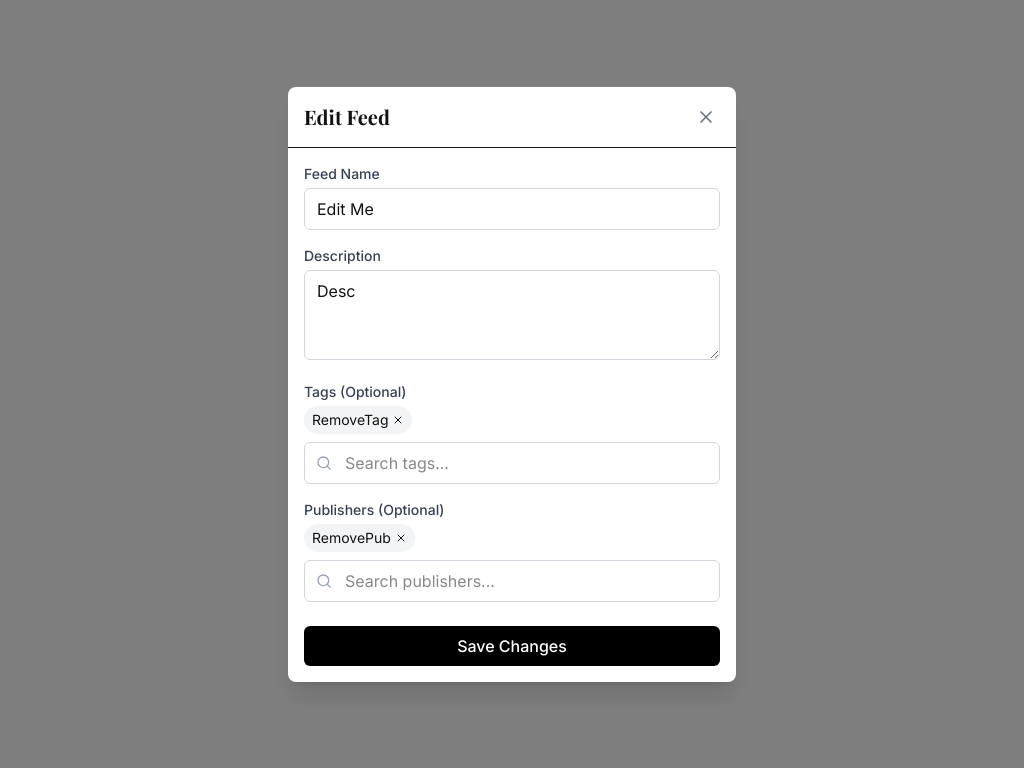
Test: CreateFeedModal › removes tags and publishers
Expected: the text "RemoveTag" is shown, [304,406,412,434]
Expected: the text "RemovePub" is shown, [304,524,415,552]
Click the button without text next to "RemoveTag". click: (398, 420)
box: [392,414,404,426]
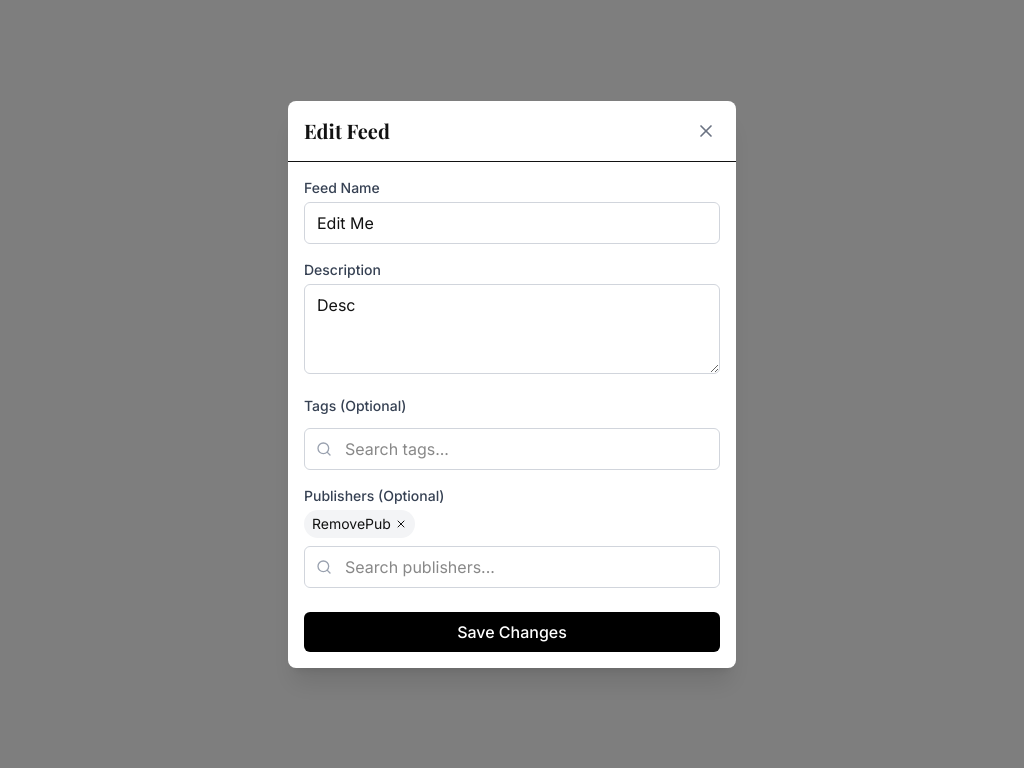
Now the text "RemoveTag" is gone
Click the button without text next to "RemovePub". click: (401, 524)
box: [395,518,407,530]
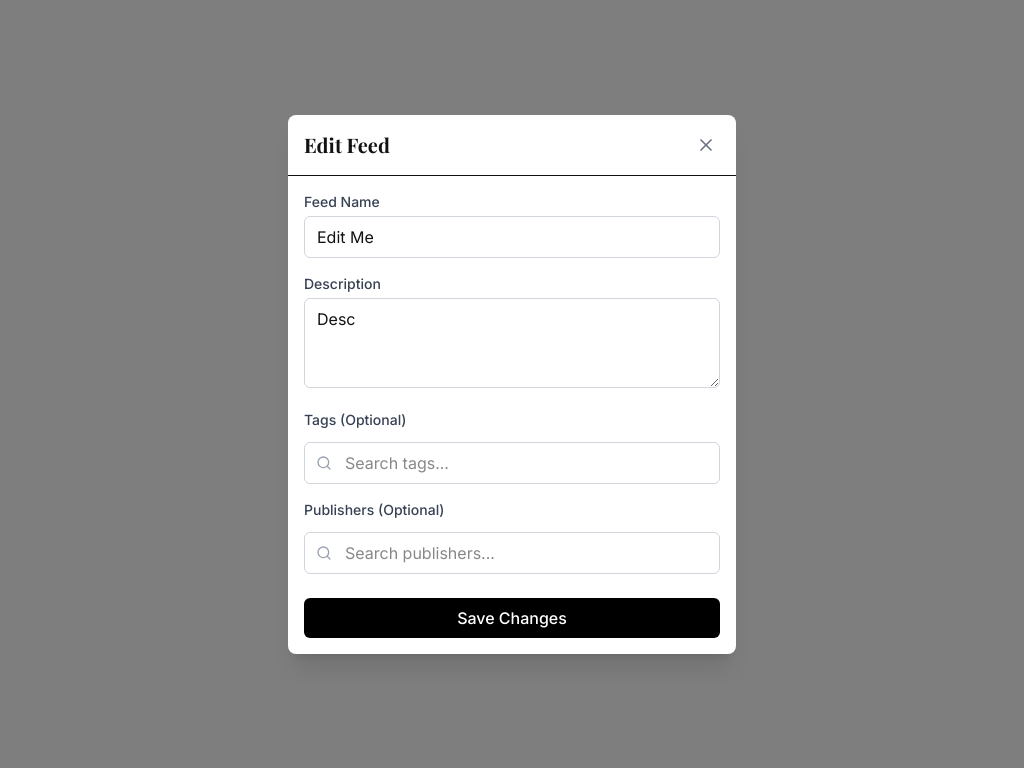
Now the text "RemovePub" is gone
